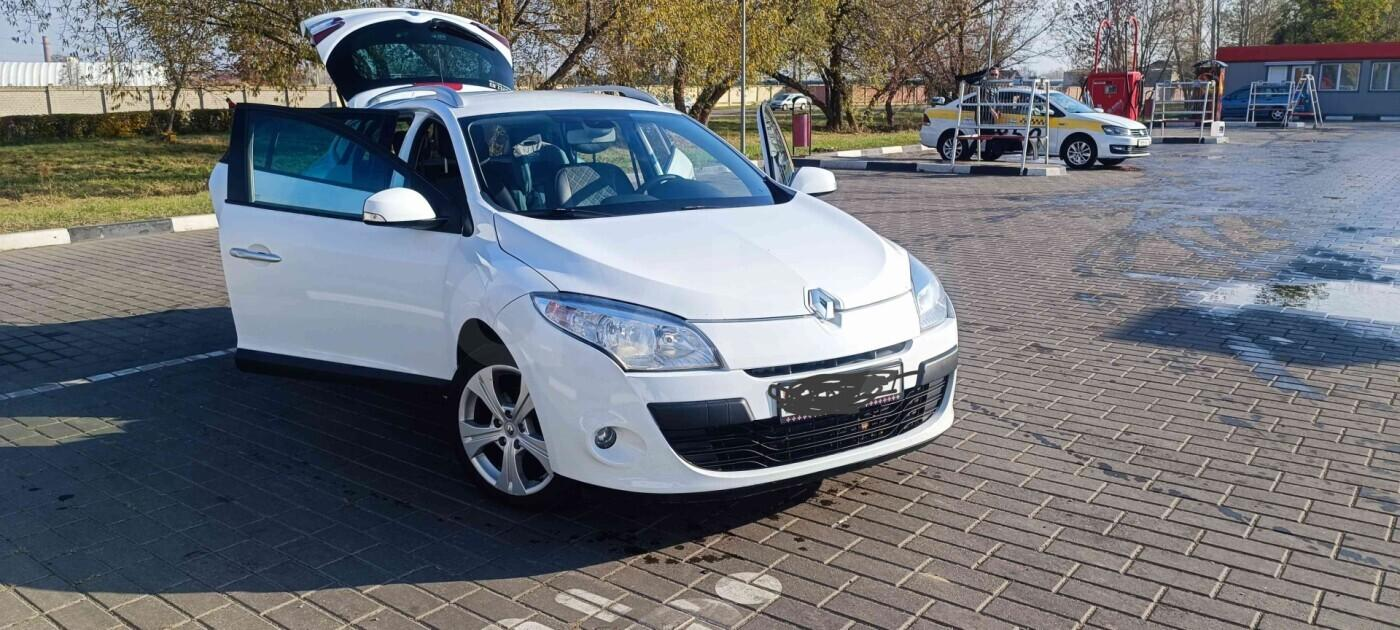Megane_2008-2014: (226, 89, 968, 506)
